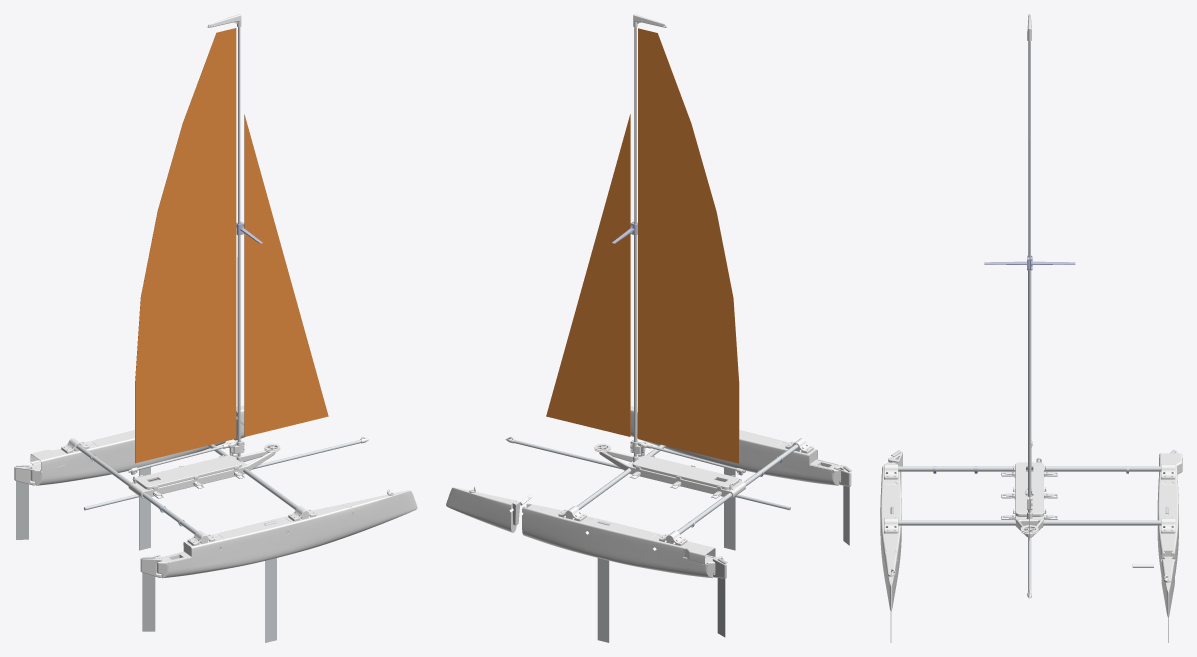
File: com-tu-2-compressed.glb
3 views of the same model, side by side, from view 1: azimuth 30°, elevation 25°; view 2: azimuth 150°, elevation 25°; view 3: azimuth 270°, elevation 25° (orthographic). The views are drawn at different scales.
Visible parts, largest first — view 1: Major-1, floc-1, Centre Popa-1, Centre Proa MK4-1, Proa-1, Popa-1, Centre Popa-3, Popa-3, Pieza1^BARCU SENCER-2, Tapa Caixa Popa-1, Pal inferior-1, Pieza2^BARCU SENCER-1 (+9 smaller); view 2: Major-1, floc-1, Centre Popa-3, Centre Proa MK4-3, Proa-3, Centre Popa-1, Popa-1, Popa-3, Pieza1^BARCU SENCER-1, Tapa Caixa Popa-1, Pal inferior-1, Mitja Caixa Pal-1 (+6 smaller); view 3: Barra transversal-2, Barra transversal-1, Pal inferior-1, Tapa Caixa Popa-1, Centre Popa-3, Centre Popa-1, Centre Proa MK4-3, Centre Proa MK4-1, Pal superior-1, Proa-1, Proa-3, Tapa Caixa Pal-2 (+1 smaller).
Part boxes in pixels (x1,y1,x2,y2): Major-1: (135,28,236,463); floc-1: (244,114,328,436); Centre Popa-1: (212,518,290,570); Centre Proa MK4-1: (279,503,352,555); Proa-1: (343,490,417,534); Popa-1: (156,534,223,578); Centre Popa-3: (86,430,160,477); Popa-3: (30,442,96,485); Pieza1^BARCU SENCER-2: (264,520,276,642); Tapa Caixa Popa-1: (175,455,241,479); Pal inferior-1: (237,235,240,456); Pieza2^BARCU SENCER-1: (142,557,155,631); Major-1: (638,28,739,463); floc-1: (546,114,630,436); Centre Popa-3: (584,518,662,570); Centre Proa MK4-3: (522,503,595,555); Proa-3: (446,487,520,532); Centre Popa-1: (713,430,788,477); Popa-1: (777,442,840,485); Popa-3: (651,534,715,578); Pieza1^BARCU SENCER-1: (597,520,610,642); Tapa Caixa Popa-1: (632,455,699,480); Pal inferior-1: (634,235,637,456); Mitja Caixa Pal-1: (662,474,745,498); Barra transversal-2: (898,520,1161,525); Barra transversal-1: (898,466,1161,471); Pal inferior-1: (1028,270,1031,512); Tapa Caixa Popa-1: (1013,484,1046,516); Centre Popa-3: (1157,481,1178,540); Centre Popa-1: (880,481,901,541); Centre Proa MK4-3: (1158,517,1178,575); Centre Proa MK4-1: (880,517,901,577); Pal superior-1: (1028,41,1030,257); Proa-1: (884,550,897,611); Proa-3: (1161,556,1174,617); Tapa Caixa Pal-2: (1013,462,1046,483).
Bounding box in the file's own units: 1.03 × 1.95 × 0.8501.
